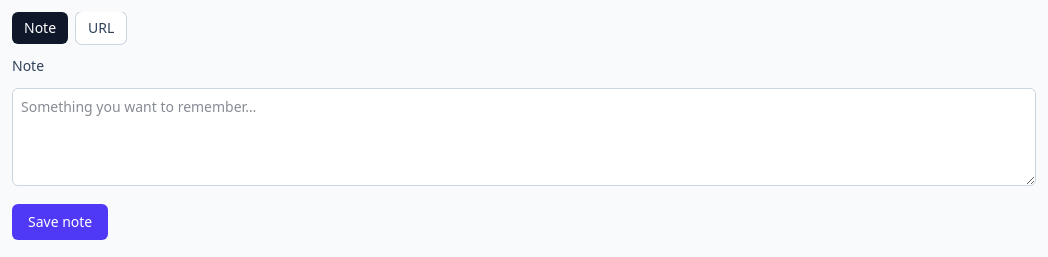
Test: AddItemForm › rejects a URL without http(s)
Click the tab "URL": (101, 28) [76,12,126,44]
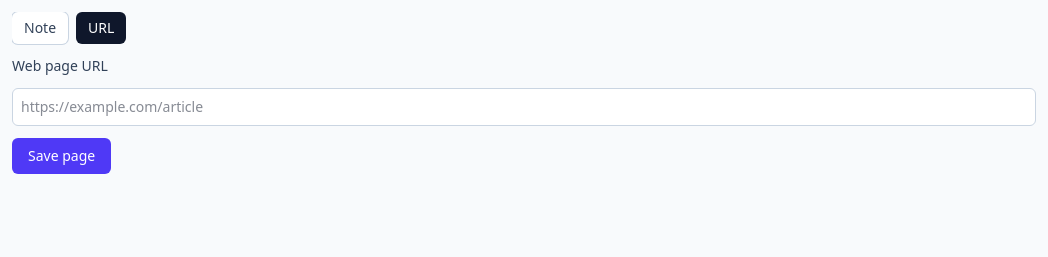
In the field labelled "Web page URL": (524, 107) [12,88,1036,126], type "example.com"
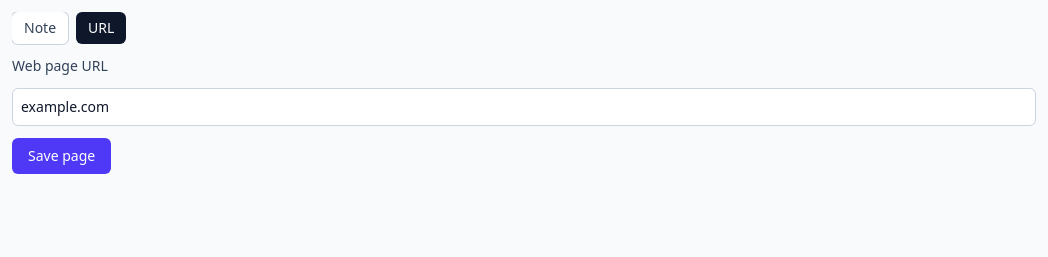
Click the button "Save page": (62, 156) [12,138,111,174]
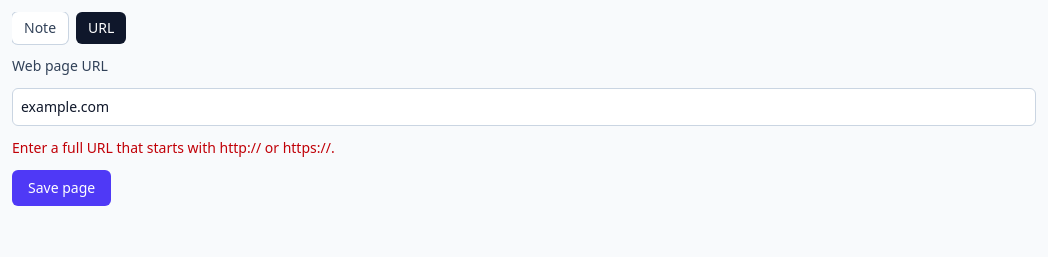
Result: the message shows "http://" at [12,138,335,157]
